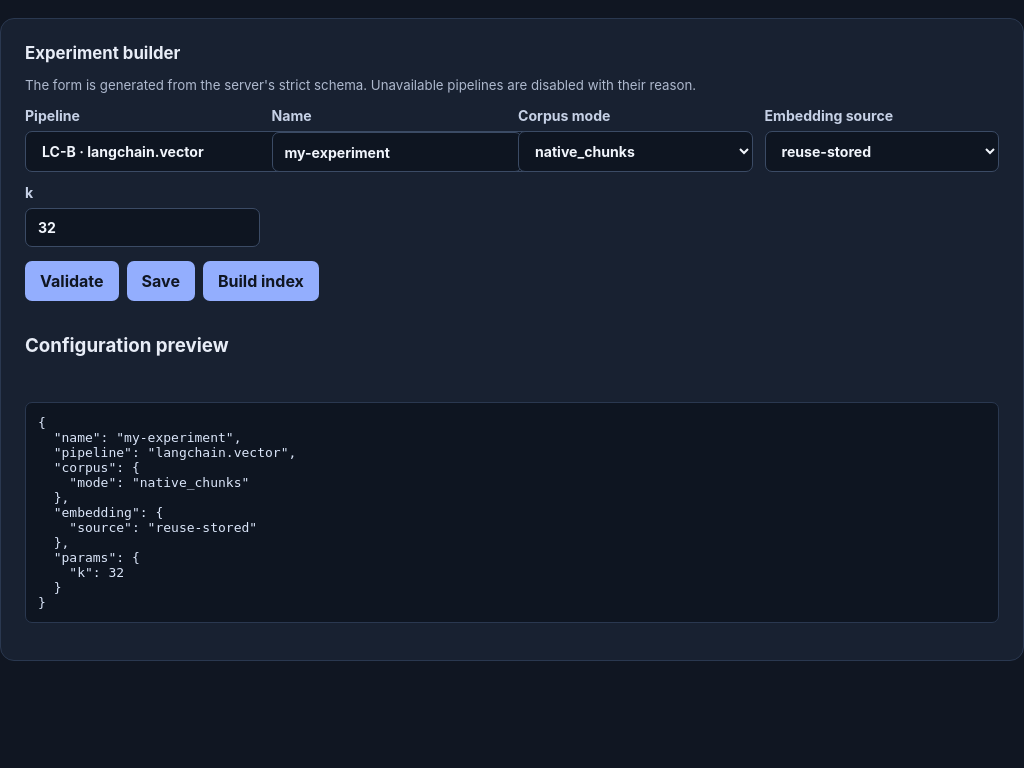
Stage 12 laboratory UI › disables unavailable pipelines and validates configs on the server
The image size is (1024, 768).
What coordinates should you click on to do the following:
click the button "Validate"
I would click on:
 (72, 281)
Its box is top-left (25, 261), bottom-right (119, 301).
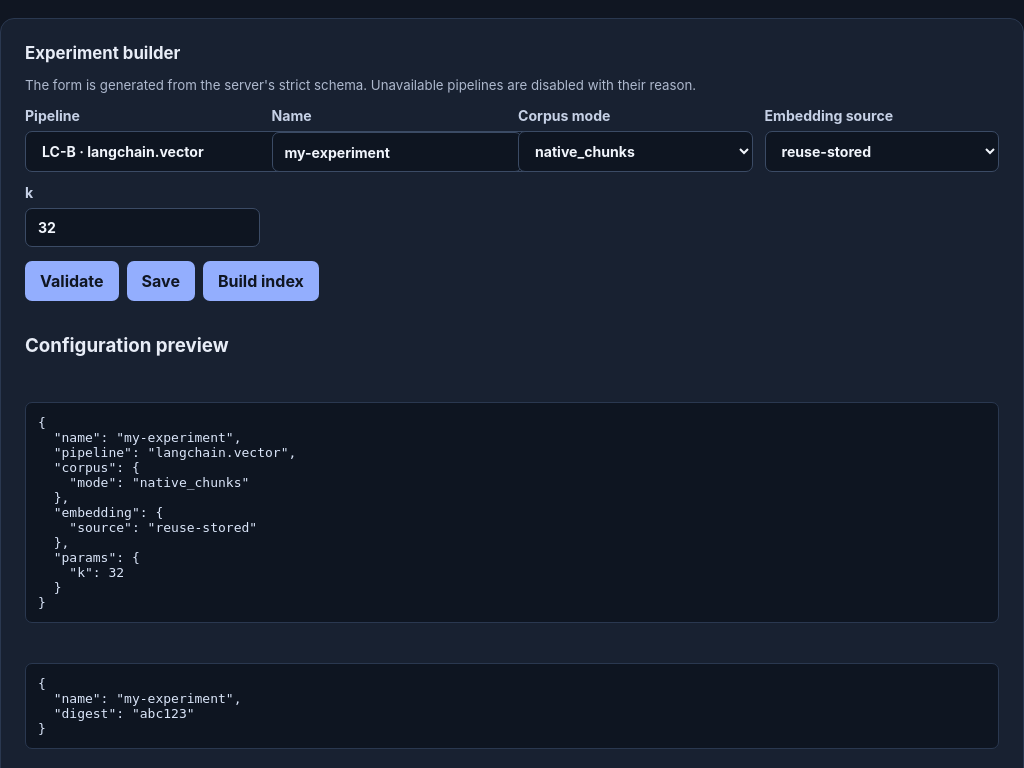
expect the text "{ \"name\": \"my-experiment\", \"digest\": \"abc123\" }" is shown: met, box top-left (25, 663), bottom-right (999, 749)
